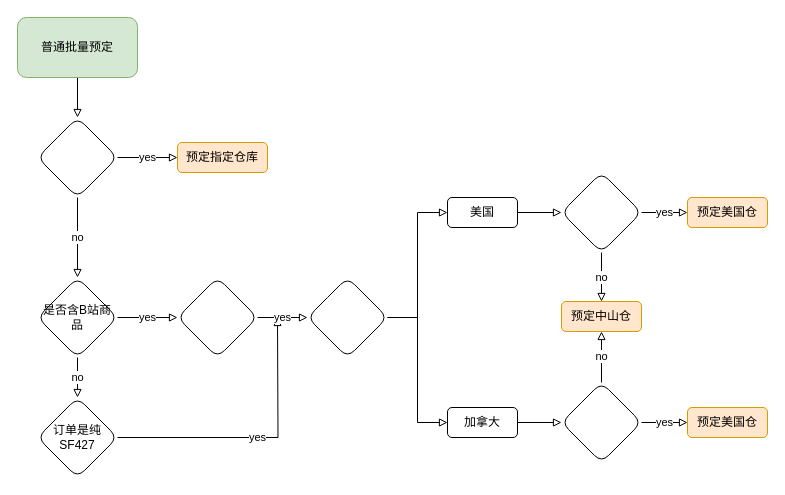
Some shapes in this 785 by 495 pixel diagram are drawn without their labels. The shapes that lost their labels are listed below. From the top down, each one's centre as x and y in pixels, then its label:
At point 77,157: "订单 是否指定仓库".
At point 601,212: "美国仓库存是否足够".
At point 217,317: "是否纯B站商品".
At point 347,317: "订单区域".
At point 601,422: "加拿大仓库存是否足够".
